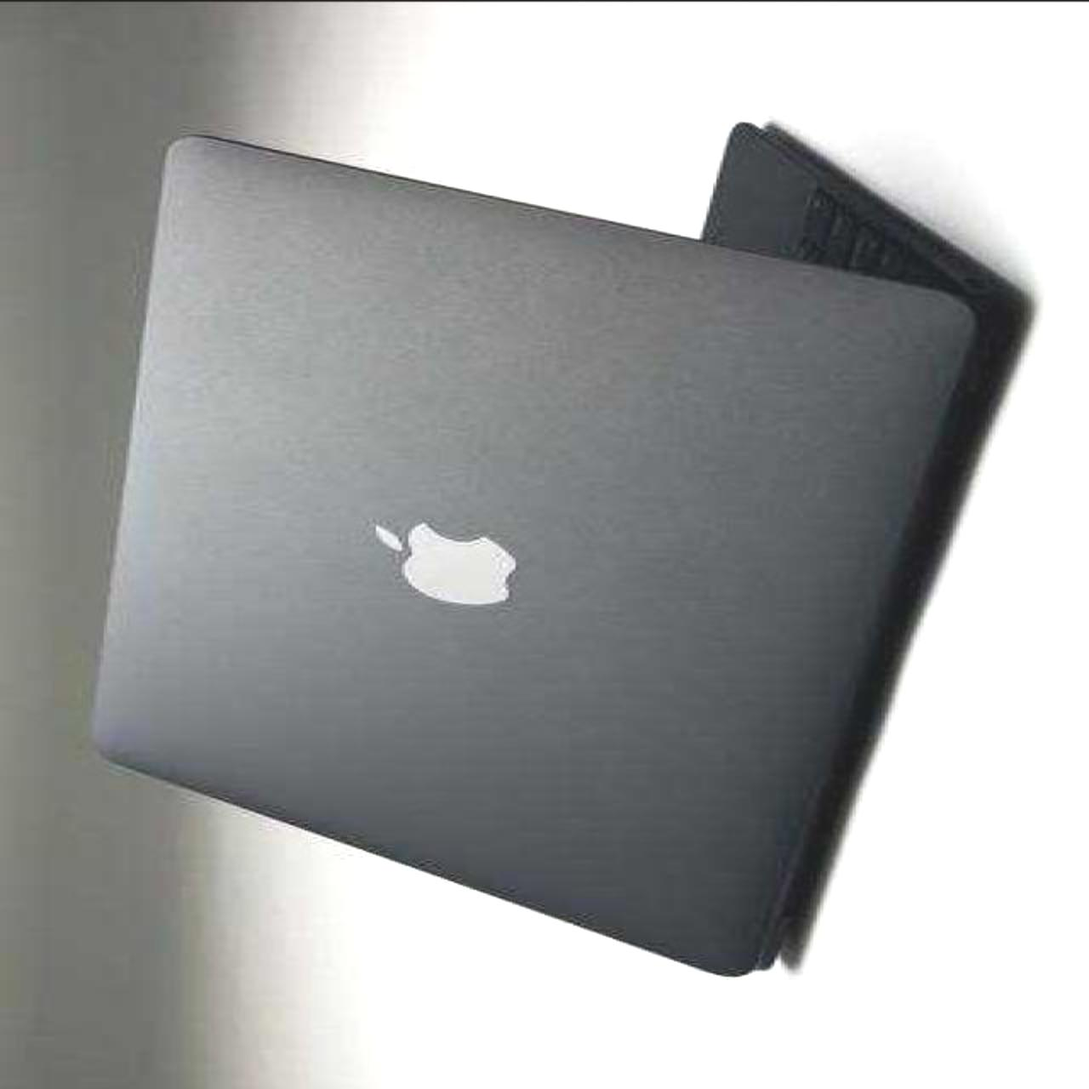laptop: (95, 139, 997, 981)
